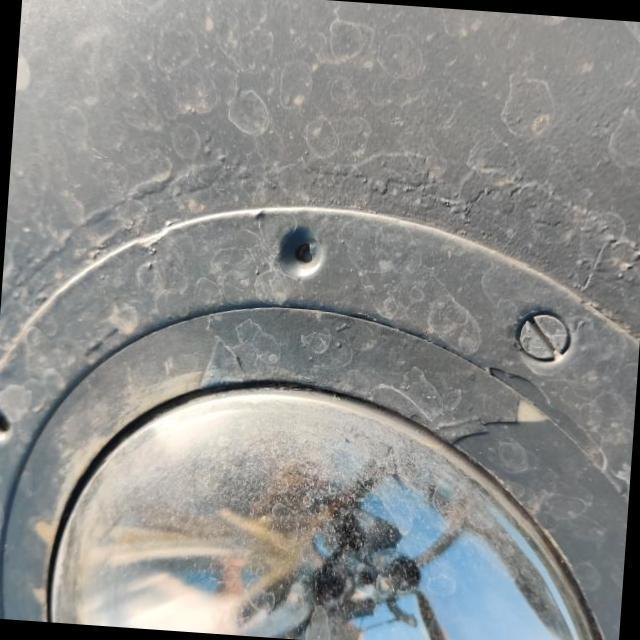Fastener Damage: (267, 208, 337, 290)
